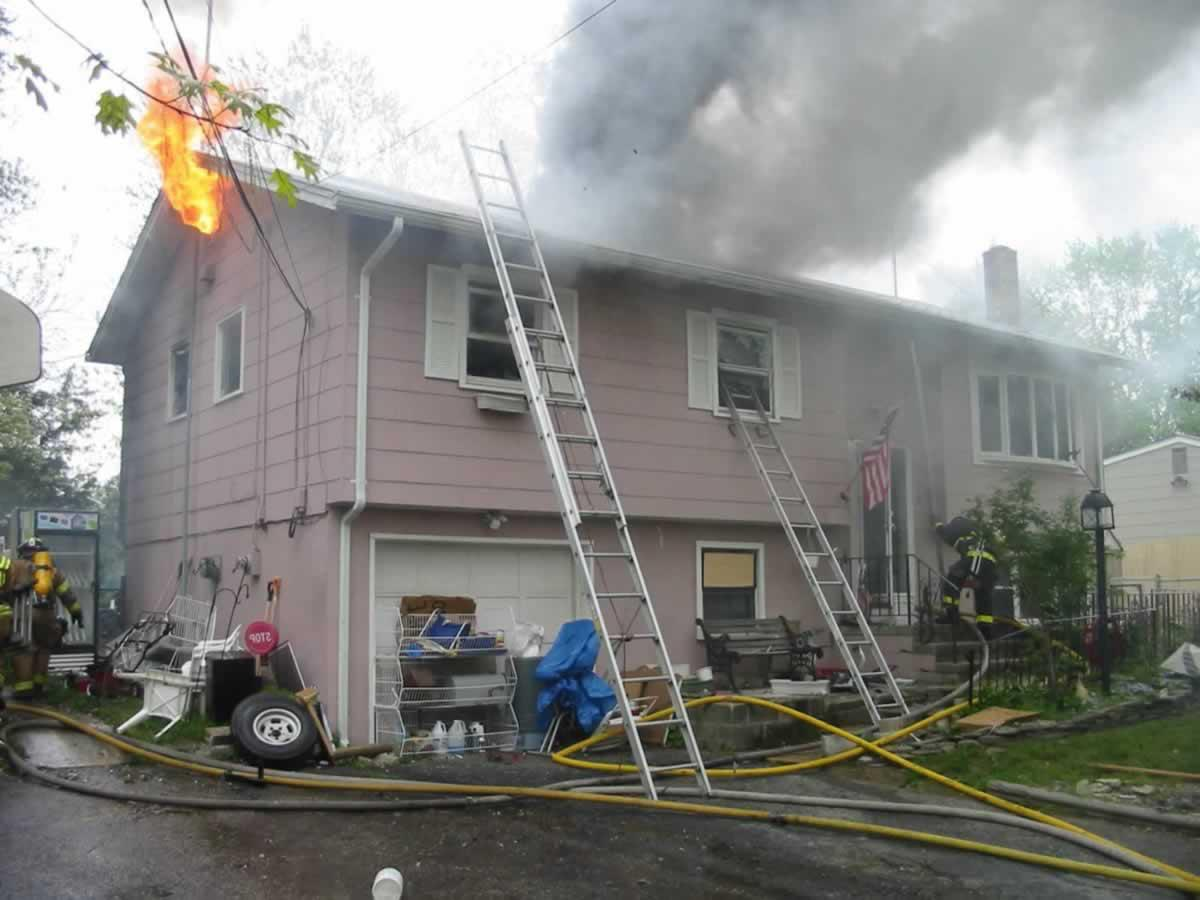fire: (129, 32, 245, 242)
